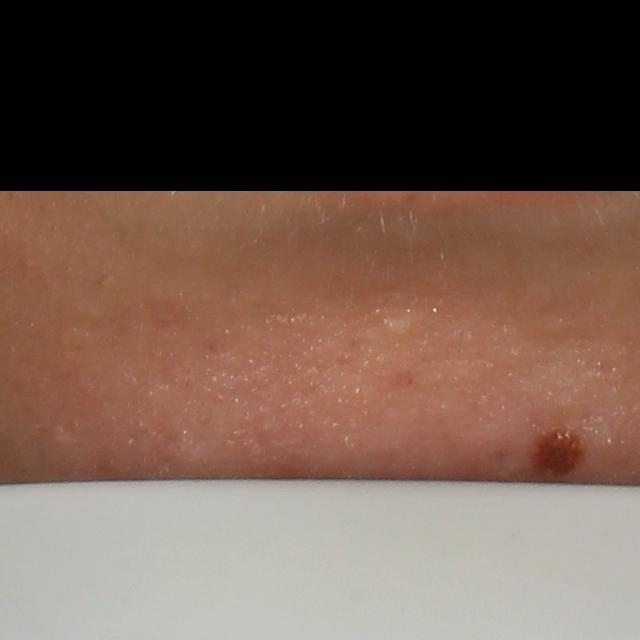hypertrophic_scar: (373, 315, 426, 340)
nevus: (536, 430, 584, 473)
